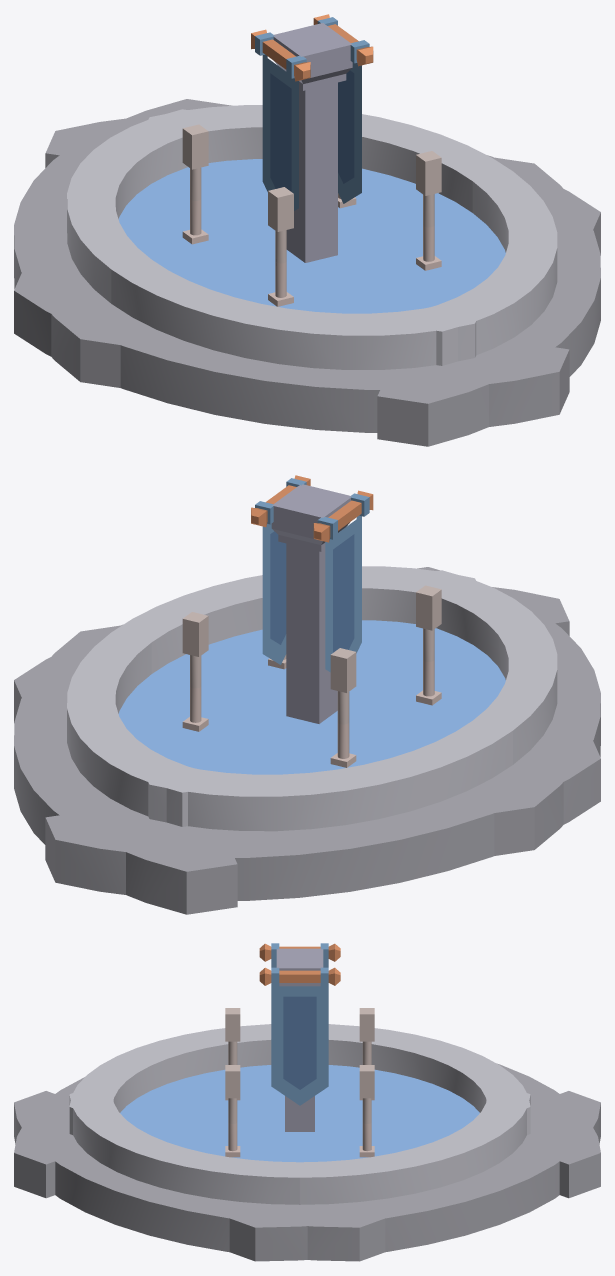
Rendered from WaterPlace.fbx.
3 renders of one model, top to bottom at view 1: azimuth 30°, elevation 25°; view 2: azimuth 150°, elevation 25°; view 3: azimuth 270°, elevation 25°, orthographic. The views are drawn at different scales.
Visible parts, largest first — view 1: wall_borderCornerRound%_7, wall_borderCornerRound%_1, wall_borderCornerRound%_6, wall_borderCornerRound%_4, wall_borderCornerRound%_0, floor_curve%_8, wall_borderCornerRound%_3, floor_curve%_9, wall_borderCornerRound%_2, structure_column_19, floor_curve%_10, floor_curve%_11 (+5 smaller); view 2: wall_borderCornerRound%_4, wall_borderCornerRound%_3, wall_borderCornerRound%_5, wall_borderCornerRound%_2, floor_curve%_10, wall_borderCornerRound%_1, wall_borderCornerRound%_0, structure_column_19, wall_borderCornerRound%_7, floor_curve%_8, floor_curve%_11, detail_bannerPoint%_21 (+5 smaller); view 3: wall_borderCornerRound%_5, wall_borderCornerRound%_6, wall_borderCornerRound%_0, wall_borderCornerRound%_2, wall_borderCornerRound%_1, wall_borderCornerRound%_3, detail_bannerPoint%_20, floor_curve%_9, floor_curve%_11, floor_curve%_8, floor_curve%_10, wall_borderCornerRound%_4 (+5 smaller).
Part boxes in pixels (<box>): wall_borderCornerRound%_7: <box>14,270,569,432</box>; wall_borderCornerRound%_1: <box>111,254,477,369</box>; wall_borderCornerRound%_6: <box>377,157,600,446</box>; wall_borderCornerRound%_4: <box>14,99,232,387</box>; wall_borderCornerRound%_0: <box>408,166,557,365</box>; floor_curve%_8: <box>288,207,505,313</box>; wall_borderCornerRound%_3: <box>67,109,215,303</box>; floor_curve%_9: <box>118,165,287,276</box>; wall_borderCornerRound%_2: <box>143,105,512,212</box>; structure_column_19: <box>273,23,352,262</box>; floor_curve%_10: <box>179,159,463,251</box>; floor_curve%_11: <box>181,250,406,313</box>; wall_borderCornerRound%_4: <box>45,738,600,900</box>; wall_borderCornerRound%_3: <box>147,721,512,831</box>; wall_borderCornerRound%_5: <box>14,625,237,914</box>; wall_borderCornerRound%_2: <box>67,627,215,826</box>; floor_curve%_10: <box>118,675,330,774</box>; wall_borderCornerRound%_1: <box>409,570,557,764</box>; wall_borderCornerRound%_0: <box>111,566,481,673</box>; structure_column_19: <box>271,484,351,723</box>; wall_borderCornerRound%_7: <box>417,567,600,855</box>; floor_curve%_8: <box>145,620,454,721</box>; floor_curve%_11: <box>336,629,505,743</box>; detail_bannerPoint%_21: <box>313,490,373,672</box>; wall_borderCornerRound%_5: <box>223,1091,600,1261</box>; wall_borderCornerRound%_6: <box>14,1091,391,1261</box>; wall_borderCornerRound%_0: <box>69,1093,320,1204</box>; wall_borderCornerRound%_2: <box>281,1093,530,1204</box>; wall_borderCornerRound%_1: <box>69,1024,271,1134</box>; wall_borderCornerRound%_3: <box>328,1024,530,1134</box>; detail_bannerPoint%_20: <box>259,967,340,1105</box>; floor_curve%_9: <box>315,1065,479,1129</box>; floor_curve%_11: <box>120,1065,284,1129</box>; floor_curve%_8: <box>125,1115,312,1162</box>; floor_curve%_10: <box>302,1115,474,1161</box>; wall_borderCornerRound%_4: <box>497,1063,600,1198</box>.
Size of the model in its own units: 31.69 by 15 by 39.31.
